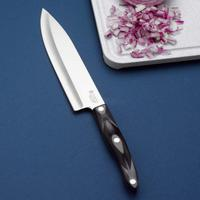knife: (36, 3, 139, 188)
